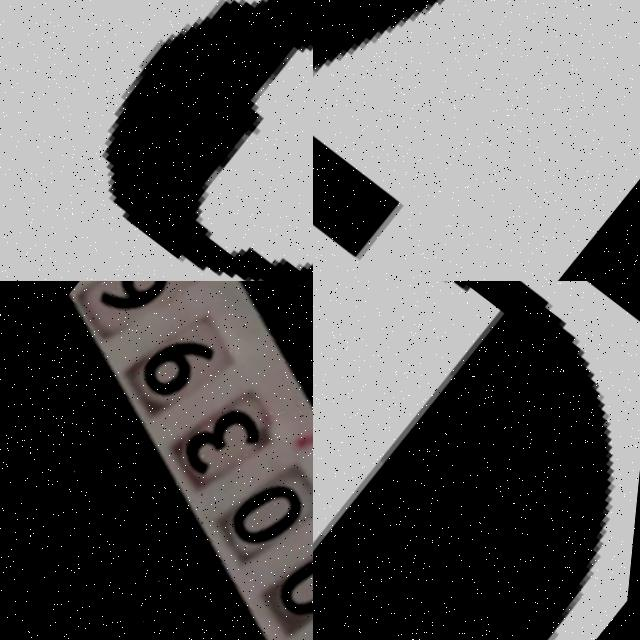0: (198, 445, 313, 588), (243, 511, 313, 640)
3: (152, 372, 302, 519)
5: (0, 0, 313, 281)
6: (59, 281, 215, 368)
9: (108, 297, 255, 441)
O: (313, 281, 621, 640)
Z: (313, 0, 640, 281)
